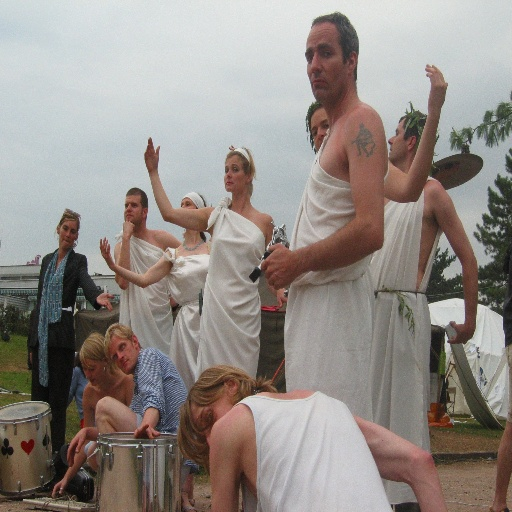hand: (260, 239, 293, 292), (424, 61, 449, 113), (140, 133, 163, 177), (66, 428, 88, 469), (445, 320, 474, 345), (97, 234, 114, 268), (133, 422, 161, 442), (95, 290, 115, 314), (50, 479, 67, 501), (120, 219, 136, 241), (29, 350, 33, 364)
